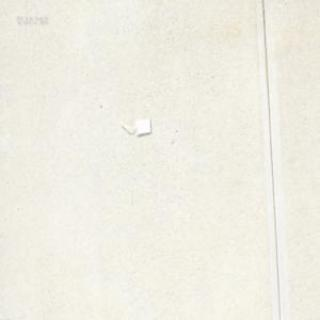LuggageTagtrack_idkeyframe: (118, 116, 150, 136)
